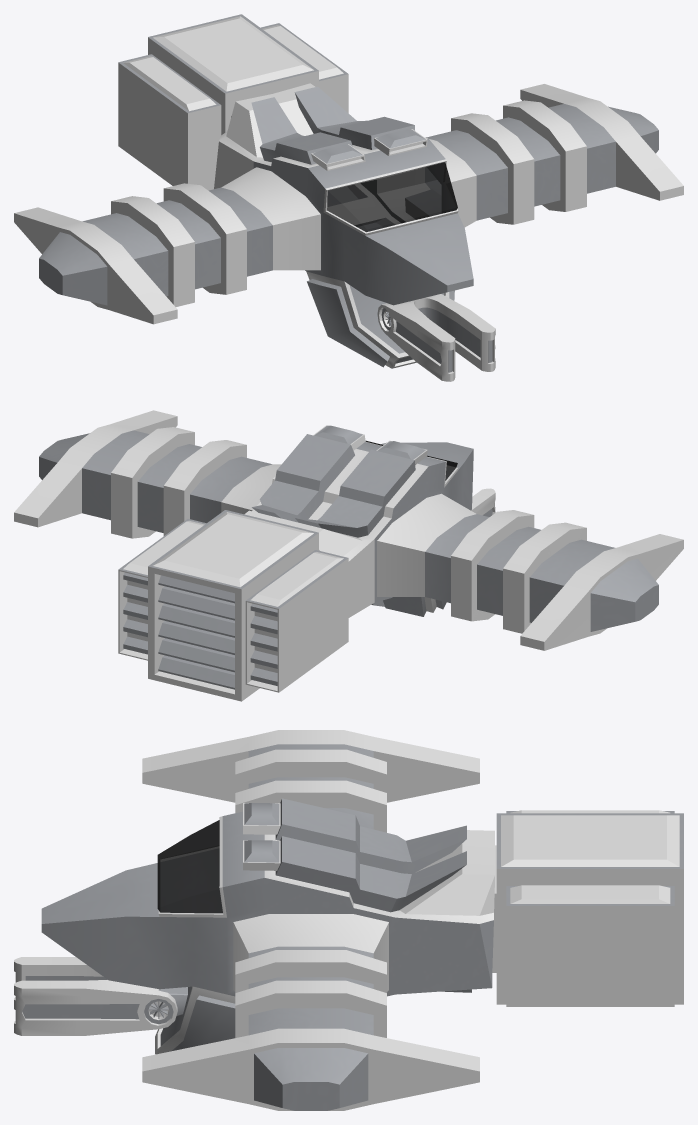
File: CED.fbx
The picture shows the model from 3 angles, top to bottom: view 1: azimuth 30°, elevation 25°; view 2: azimuth 150°, elevation 25°; view 3: azimuth 270°, elevation 25°; orthographic projection. The views are drawn at different scales.
Parts seen in each view (by area): view 1: CED; view 2: CED; view 3: CED.
Part boxes in pixels (bbox=[...]): CED: bbox=[14, 14, 683, 381]; CED: bbox=[14, 410, 683, 701]; CED: bbox=[14, 730, 683, 1110].
Size of the model in its own units: 8.9 by 2.8 by 7.16.
